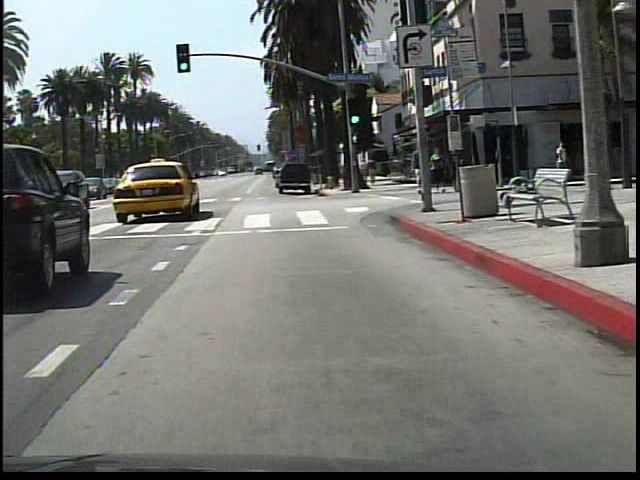person: (410, 145, 428, 197), (551, 139, 568, 183)
